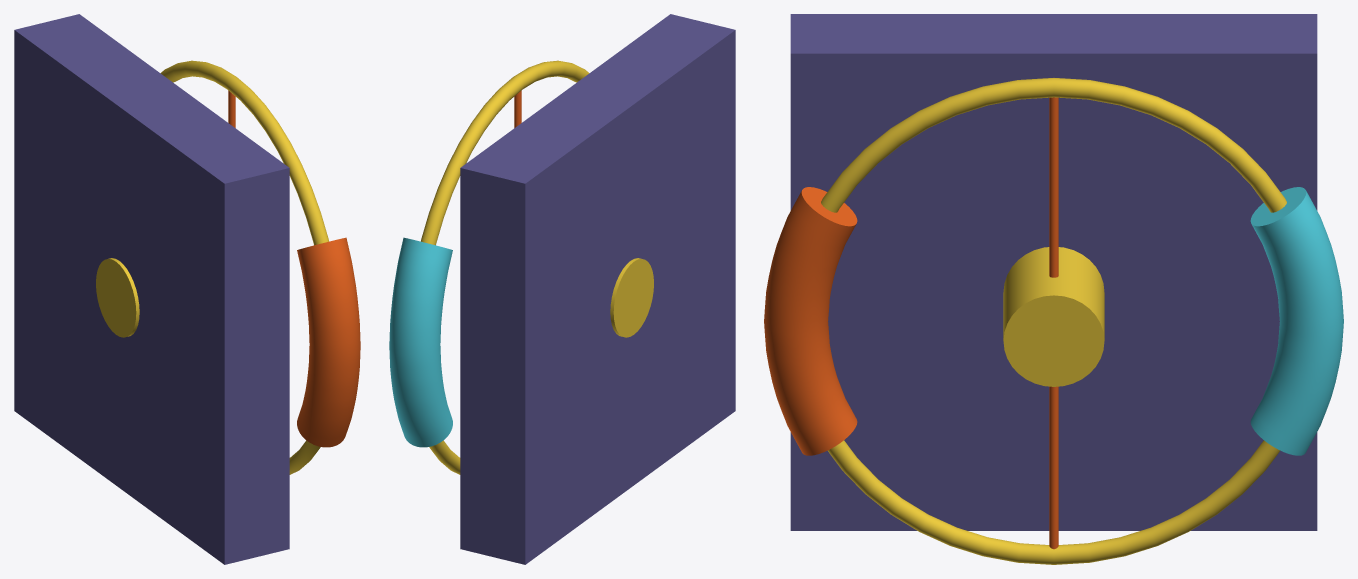
Rendered from bob2.fbx.
The picture shows the model from 3 angles, left to right: view 1: azimuth 30°, elevation 25°; view 2: azimuth 150°, elevation 25°; view 3: azimuth 270°, elevation 25°; orthographic projection. The views are drawn at different scales.
Visible parts, largest first — view 1: Cube.001, Cylinder.004, BezierCircle, Cylinder.006; view 2: Cube.001, Cylinder.004, BezierCircle, Cylinder.006; view 3: Cube.001, Cylinder.004, BezierCircle, Cylinder.006, Cylinder.007.
Boxes of the visible parts, x1=… form: Cube.001: x1=14, y1=14, x2=289, y2=564; Cylinder.004: x1=297, y1=237, x2=360, y2=447; BezierCircle: x1=160, y1=60, x2=328, y2=474; Cylinder.006: x1=96, y1=258, x2=139, y2=337; Cube.001: x1=460, y1=14, x2=735, y2=564; Cylinder.004: x1=389, y1=237, x2=452, y2=447; BezierCircle: x1=421, y1=60, x2=589, y2=474; Cylinder.006: x1=610, y1=258, x2=653, y2=337; Cube.001: x1=790, y1=14, x2=1317, y2=530; Cylinder.004: x1=764, y1=187, x2=1343, y2=455; BezierCircle: x1=821, y1=78, x2=1286, y2=564; Cylinder.006: x1=1003, y1=247, x2=1104, y2=386; Cylinder.007: x1=1049, y1=97, x2=1058, y2=549.
Size of the model in its own units: 57.35 by 143 by 155.
